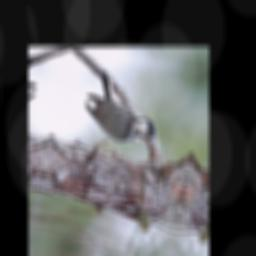Woodpecker: (76, 68, 169, 153)
